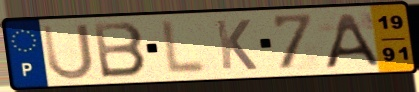7: (272, 12, 317, 73)
A: (322, 11, 383, 70)
B: (91, 21, 149, 80)
K: (212, 18, 260, 72)
L: (160, 18, 209, 77)
U: (39, 22, 97, 82)
